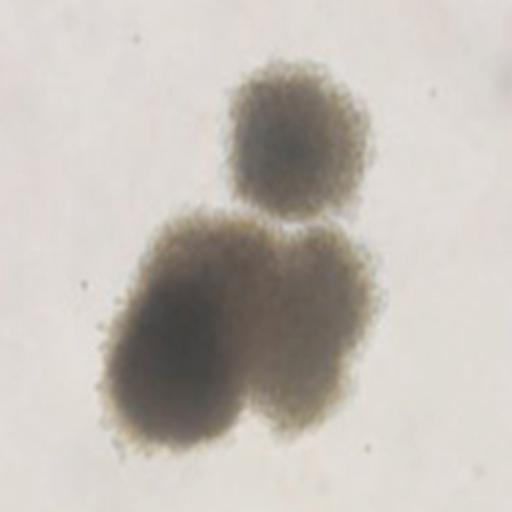BFU-E: (103, 217, 365, 448), (229, 63, 366, 217)
